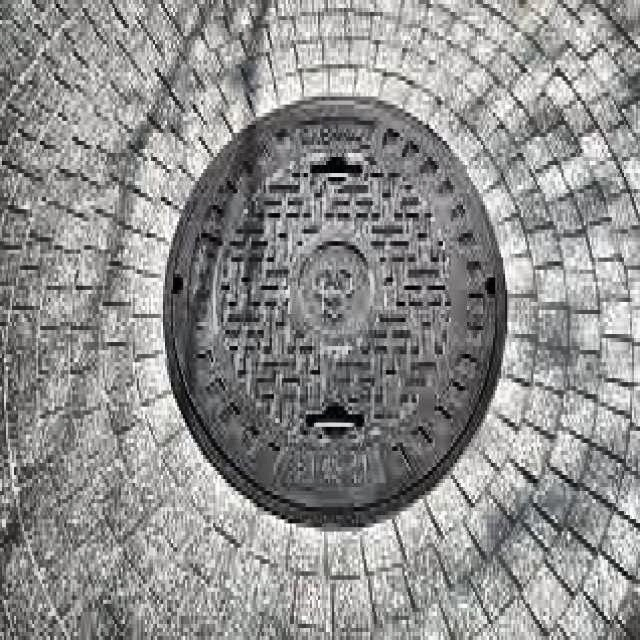Sewer Cover: (148, 47, 528, 562)
